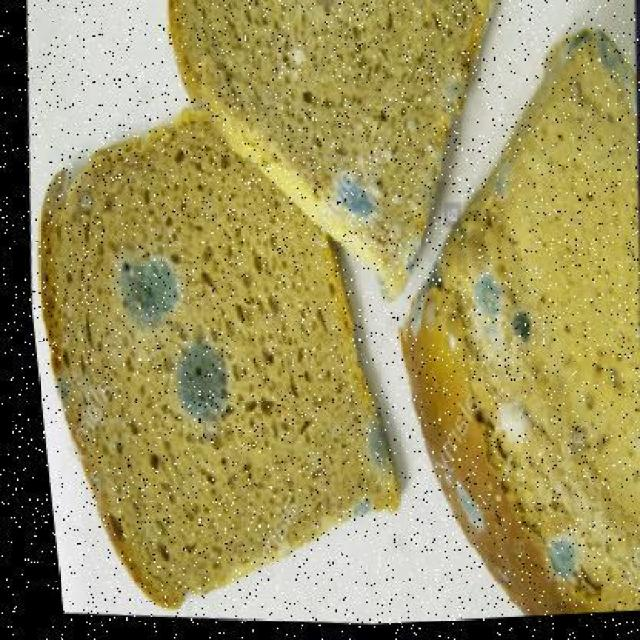Wet: (36, 11, 640, 635)
